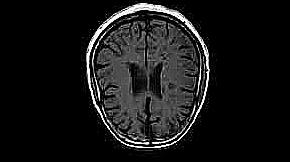Normal_Brain: (1, 1, 290, 162)
